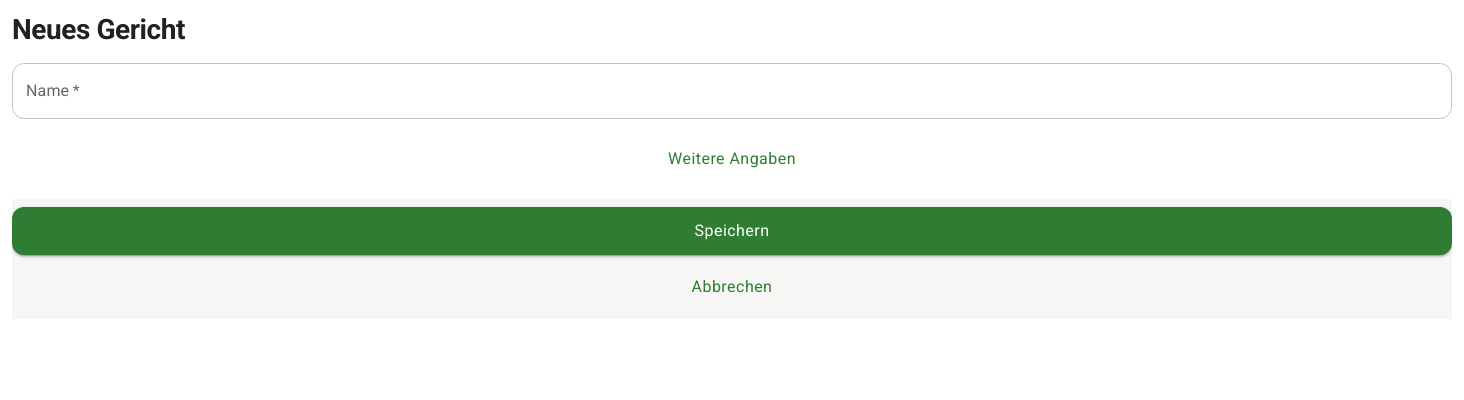
Test case: verlangt einen Namen
What coordinates should you click on to do the following:
click the button with test id "save-dish"
I would click on:
 (732, 231)
Its box is [12,207,1452,255].
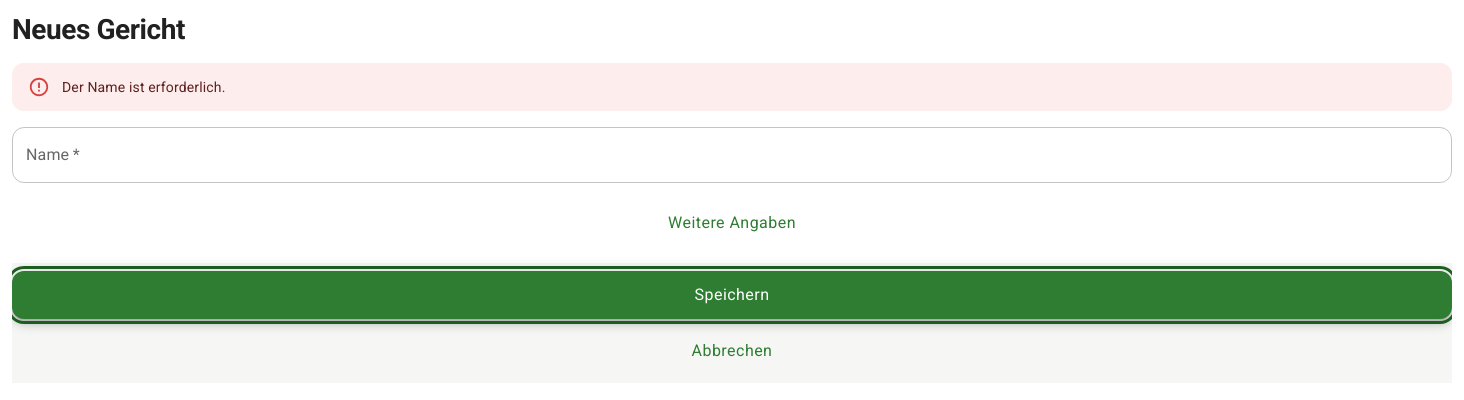
Result: the message reads "Der Name ist erforderlich." at [62,79,226,95]
